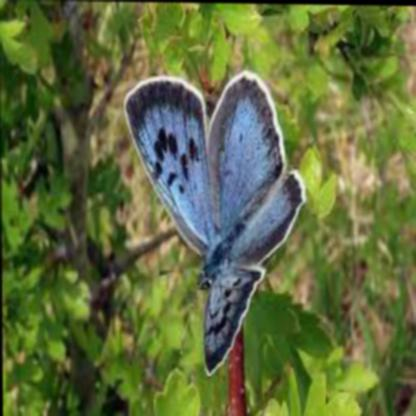Butterfly: (123, 69, 309, 379)
